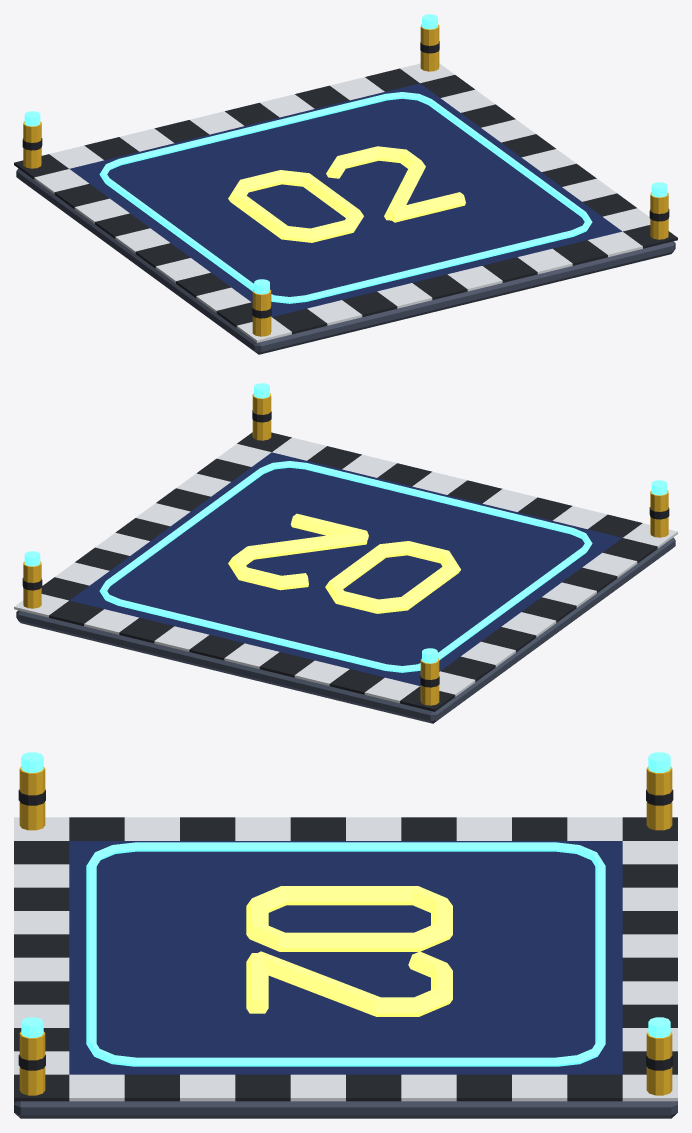
Rendered from JoinPad_02.fbx.
3 renders of one model, top to bottom at view 1: azimuth 30°, elevation 25°; view 2: azimuth 150°, elevation 25°; view 3: azimuth 270°, elevation 25°, orthographic. The views are drawn at different scales.
Parts seen in each view (by area): view 1: JoinPad_02, Neon_Cyan, Neon_Yellow; view 2: JoinPad_02, Neon_Cyan, Neon_Yellow; view 3: JoinPad_02, Neon_Cyan, Neon_Yellow.
Boxes of the visible parts, x1,y1,x2,y2 form: JoinPad_02: (14, 24, 677, 354); Neon_Cyan: (24, 14, 667, 303); Neon_Yellow: (228, 146, 465, 242); JoinPad_02: (14, 393, 677, 723); Neon_Cyan: (24, 383, 667, 672); Neon_Yellow: (228, 513, 460, 613); JoinPad_02: (14, 766, 677, 1118); Neon_Cyan: (21, 752, 670, 1066); Neon_Yellow: (246, 886, 452, 1016).
Bounding box in the file's own units: 18 × 2.75 × 18.
3 materials, 1 textured.
